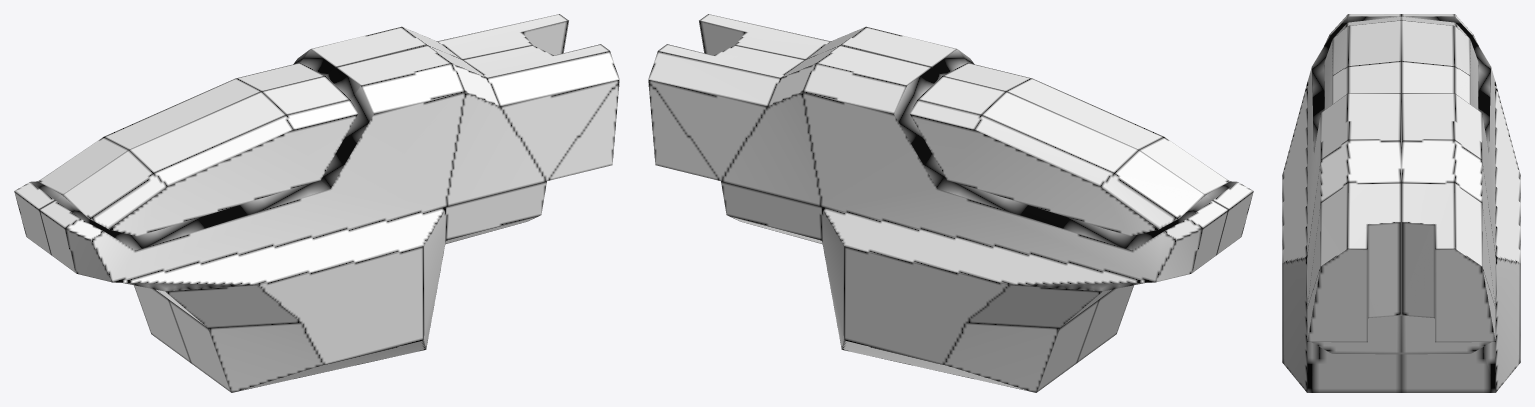
Rendered from rumpf.obj.
3 views of the same model, side by side, from view 1: azimuth 30°, elevation 25°; view 2: azimuth 150°, elevation 25°; view 3: azimuth 270°, elevation 25° (orthographic). The views are drawn at different scales.
Parts seen in each view (by area): view 1: cube1_sep57; view 2: cube1_sep57; view 3: cube1_sep57.
Part boxes in pixels (x1,y1,x2,y2): cube1_sep57: [14, 14, 619, 392]; cube1_sep57: [648, 14, 1253, 392]; cube1_sep57: [1282, 14, 1520, 392].
Size of the model in its own units: 7.94 by 3.63 by 2.84.
Materials: 1 (1 with a texture image).
